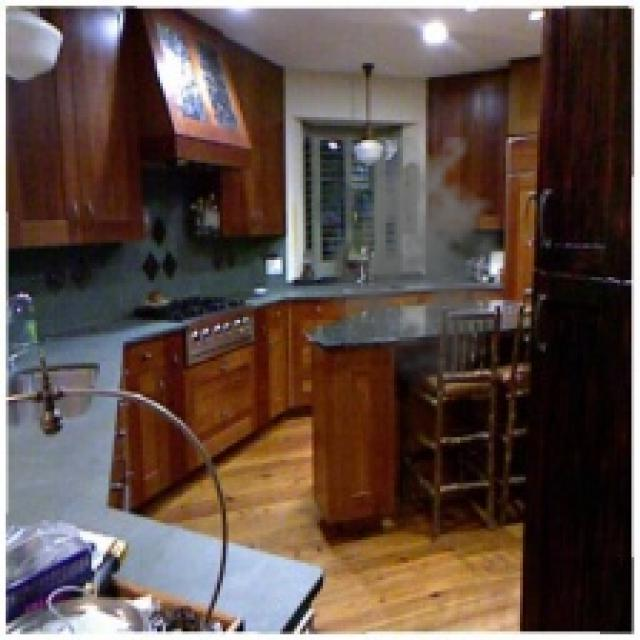smoke: (317, 137, 526, 389)
